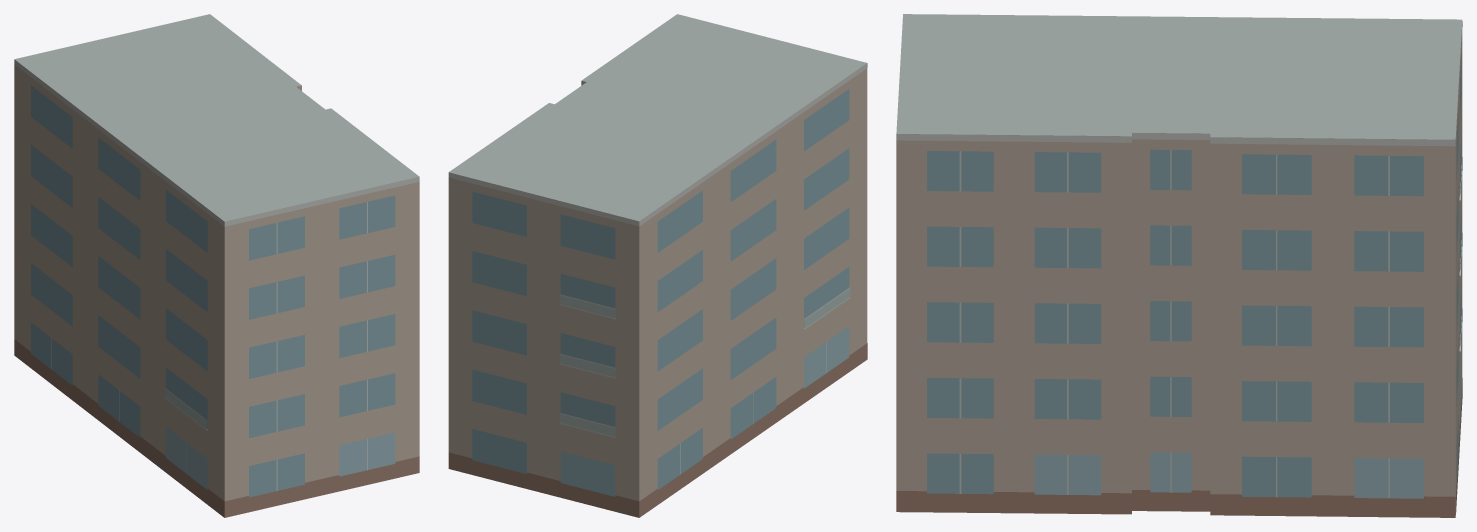
File: survey-upis-32650008.glb
3 renders of one model, left to right at view 1: azimuth 30°, elevation 25°; view 2: azimuth 150°, elevation 25°; view 3: azimuth 270°, elevation 25°, orthographic. The views are drawn at different scales.
Visible parts, largest first — view 1: survey-upis-32650008.tmp; view 2: survey-upis-32650008.tmp; view 3: survey-upis-32650008.tmp.
Part boxes in pixels (<box>): survey-upis-32650008.tmp: <box>14,14,419,517</box>; survey-upis-32650008.tmp: <box>448,14,867,517</box>; survey-upis-32650008.tmp: <box>896,14,1462,517</box>.
Size of the model in its own units: 10.1 by 14.15 by 19.21.
